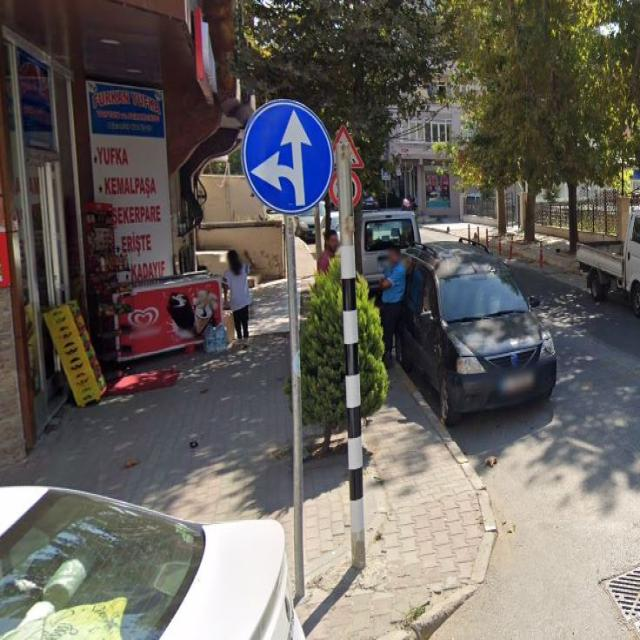ilerisol: (242, 99, 333, 215)
